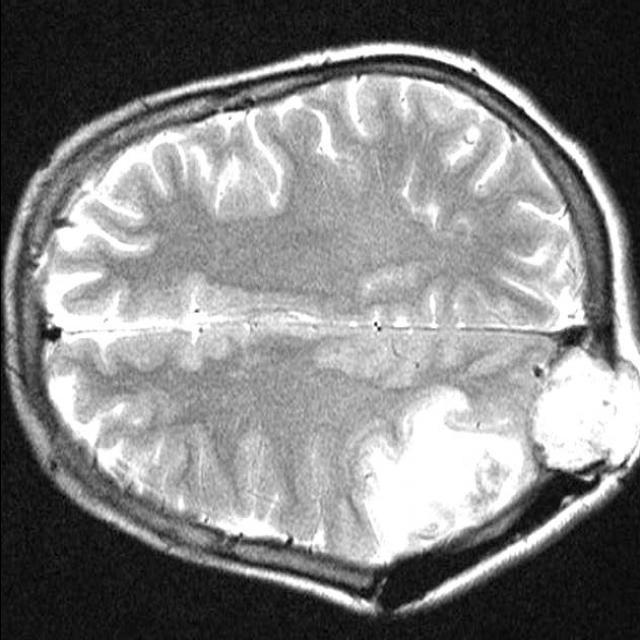tumor: (343, 386, 532, 560), (531, 346, 640, 471)
